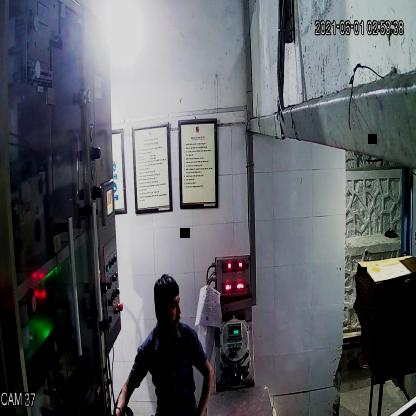no_goggles: (154, 293, 184, 317)
